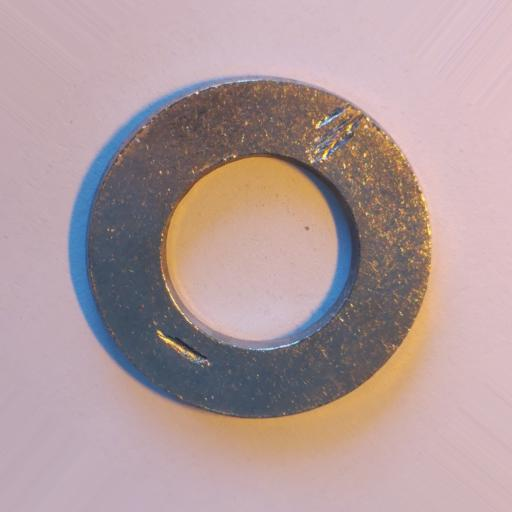scratch: (307, 102, 364, 163), (156, 328, 211, 366)
